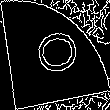O_W: (29, 29, 81, 81)
